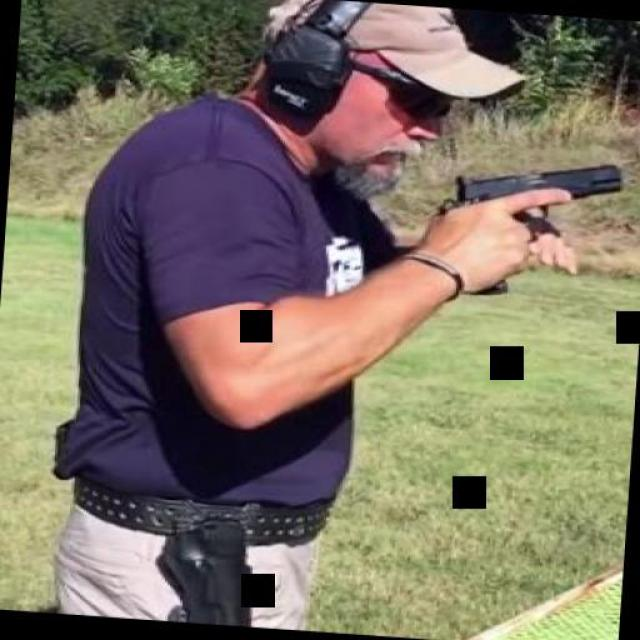gun: (440, 152, 628, 306)
